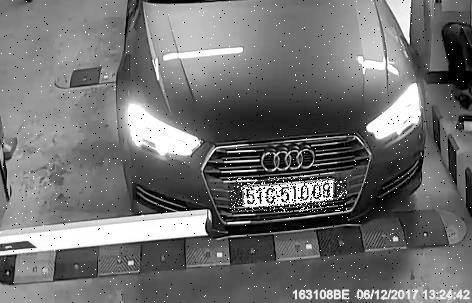License-plate: (229, 178, 348, 213)
